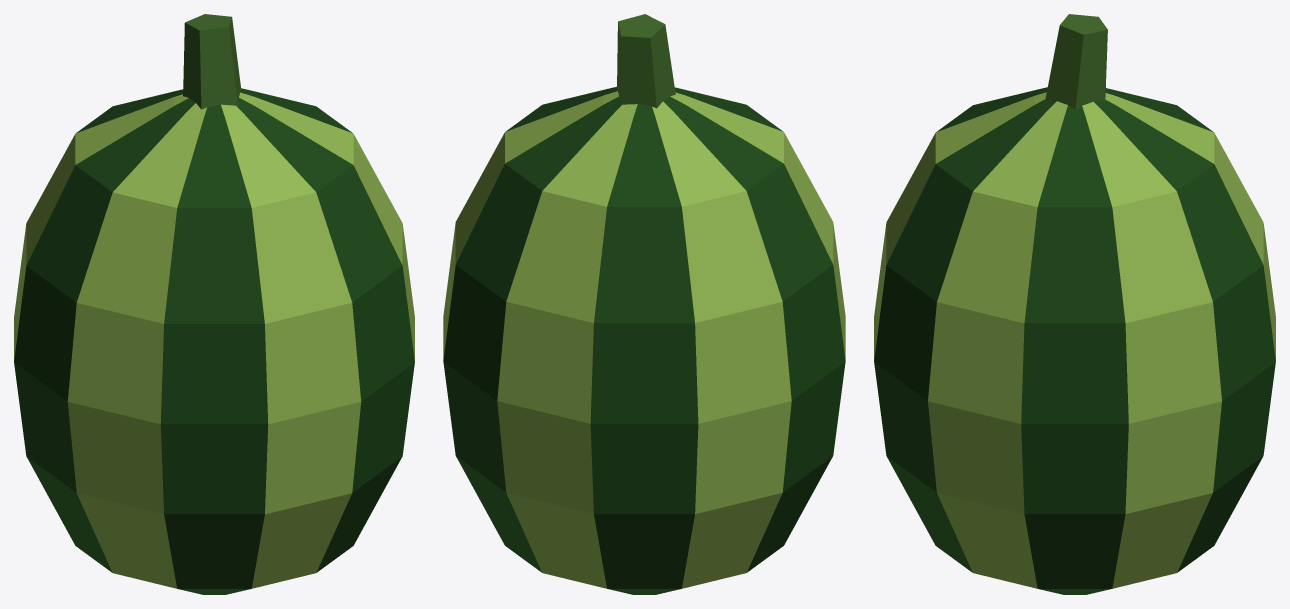
File: watermelon.gltf
3 renders of one model, left to right at view 1: azimuth 30°, elevation 25°; view 2: azimuth 150°, elevation 25°; view 3: azimuth 270°, elevation 25°, orthographic.
Visible parts, largest first — view 1: watermelon; view 2: watermelon; view 3: watermelon.
Boxes of the visible parts, <box> form: watermelon: <box>14,14,414,594</box>; watermelon: <box>443,14,845,594</box>; watermelon: <box>874,14,1275,594</box>.
Size of the model in its own units: 0.142 by 0.2235 by 0.142.
